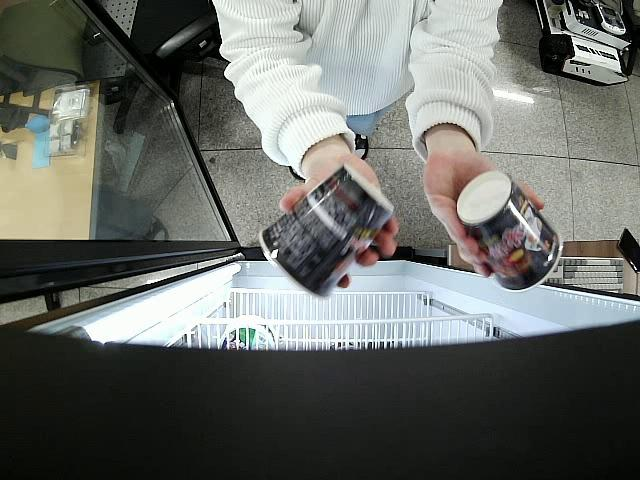00_hand: (278, 155, 399, 287), (423, 151, 544, 279)
08_buldak_S: (261, 166, 393, 301), (455, 170, 563, 294)
